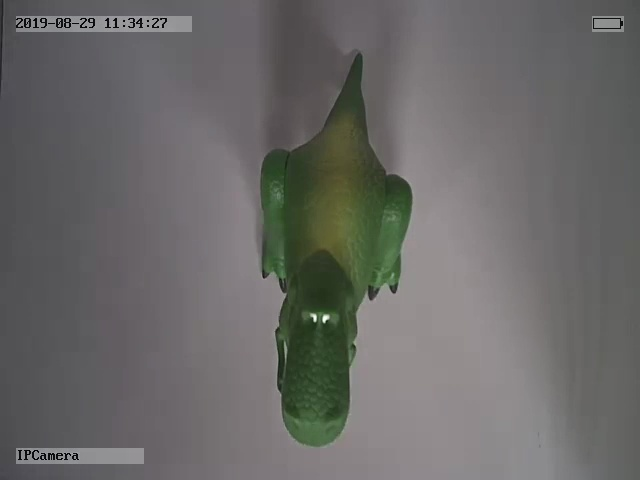rex: (258, 51, 414, 445)
